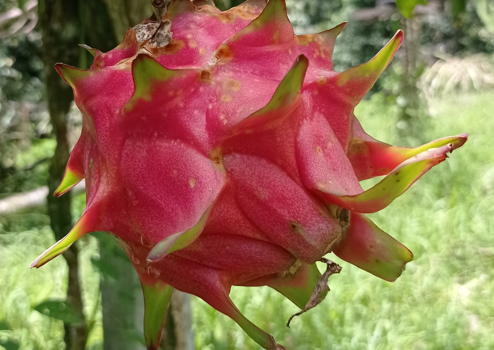Matang: (38, 20, 426, 297)
